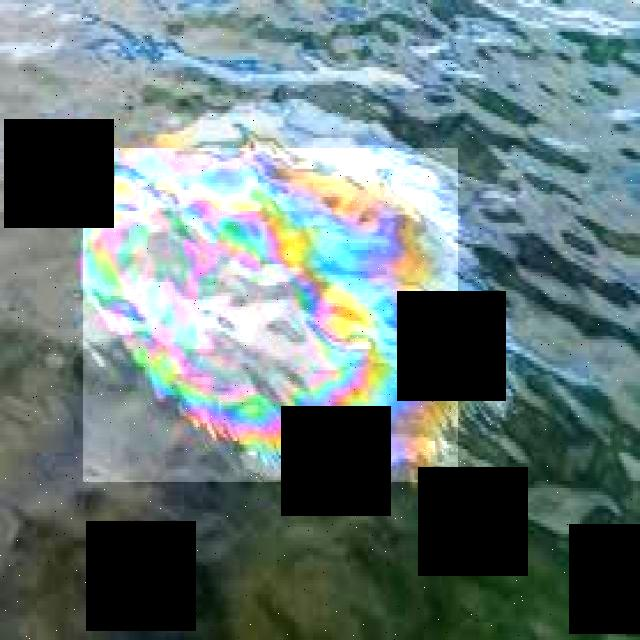oil spill: (83, 148, 458, 482)
